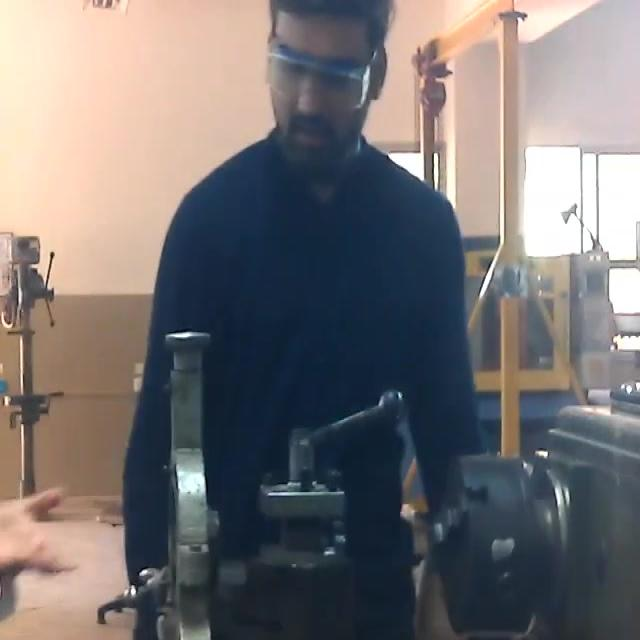googles: (264, 45, 371, 113)
